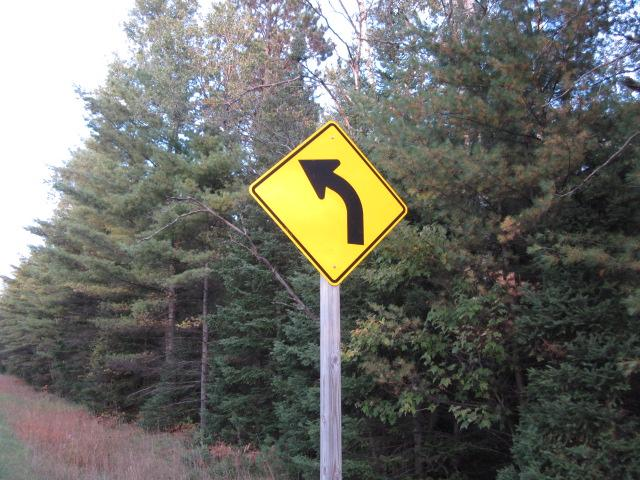warning: (242, 119, 417, 293)
